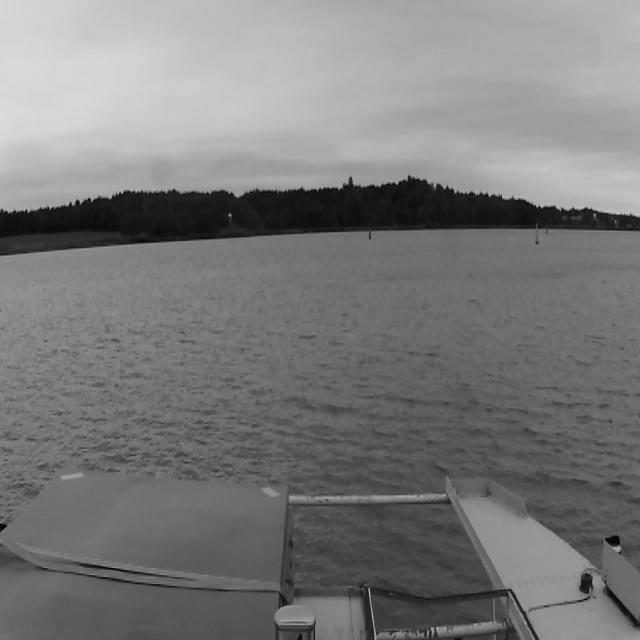buoy: (534, 222, 540, 245), (368, 226, 372, 240), (545, 226, 549, 236)
